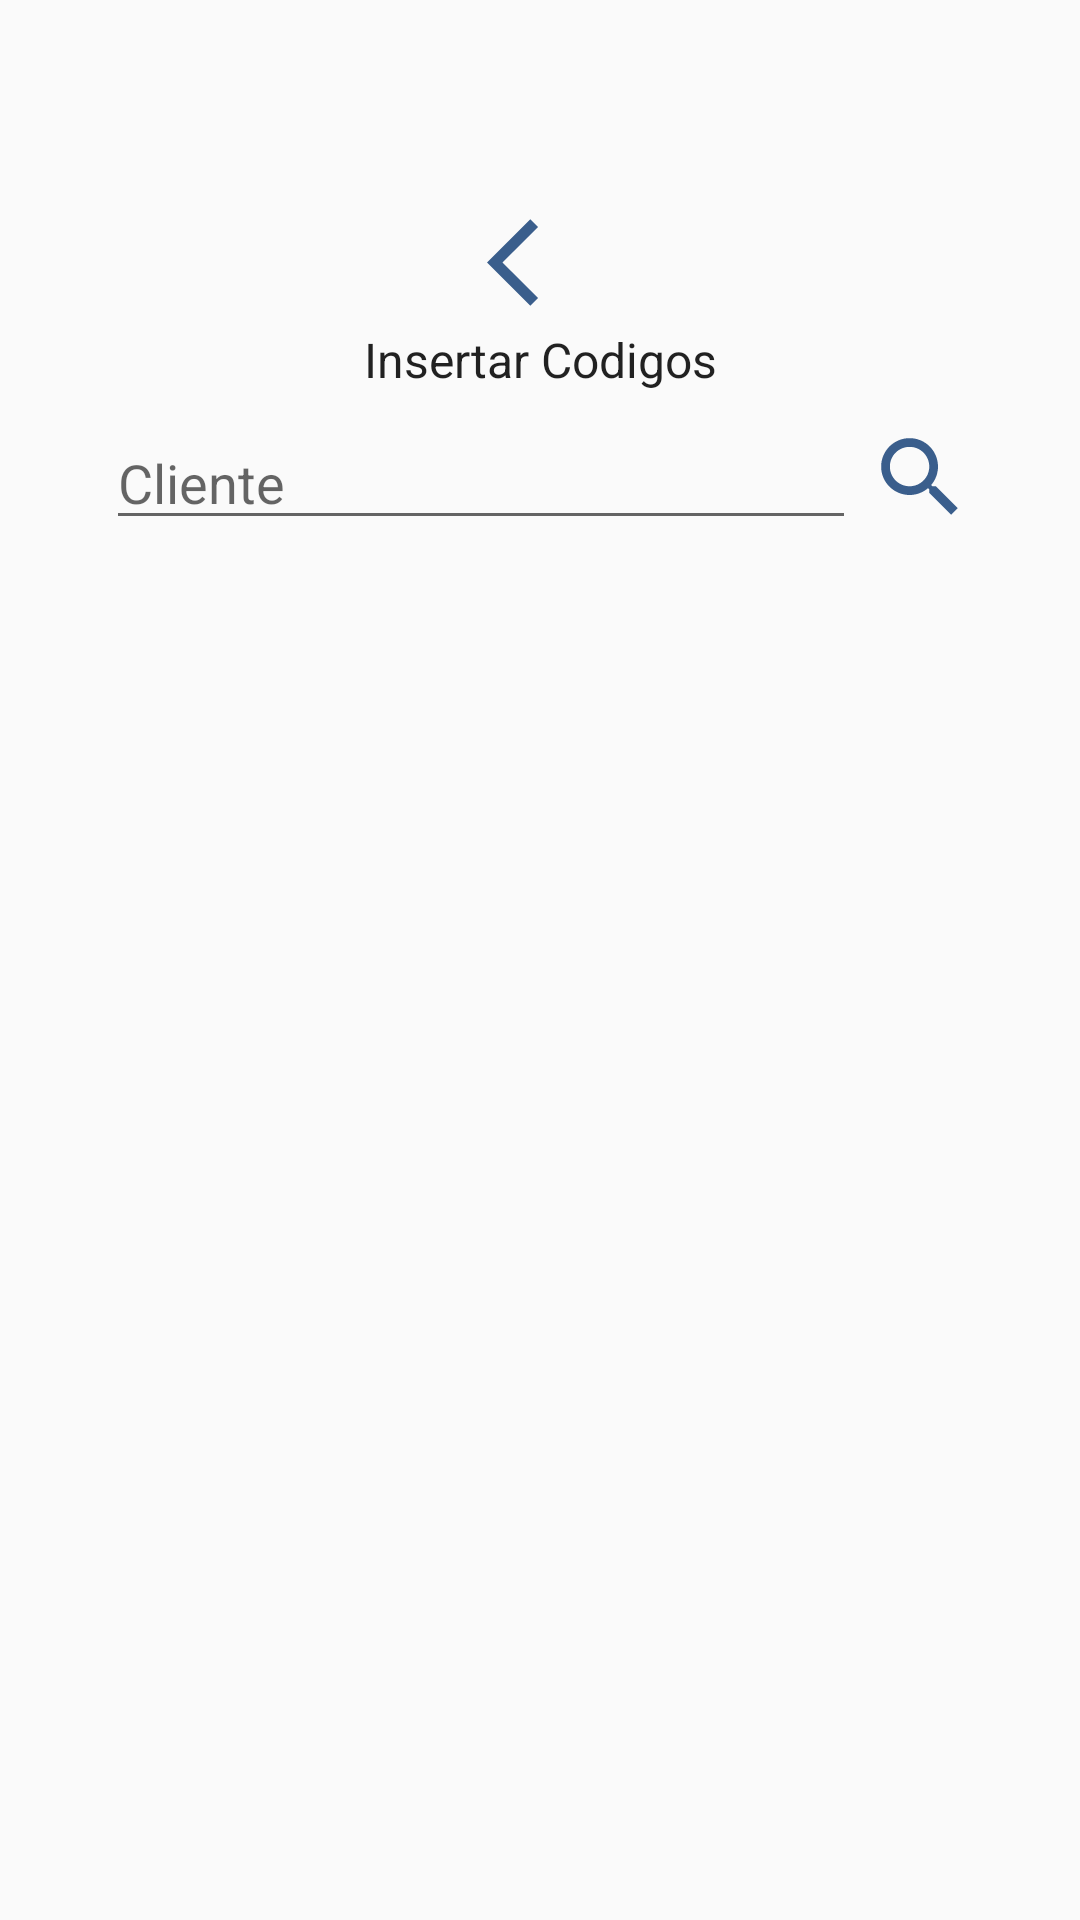

Screen size 1080 x 1920. Icon name, then its center in pixels as (x=x, y=y):
atras: (x=512, y=262)
search: (x=919, y=476)
